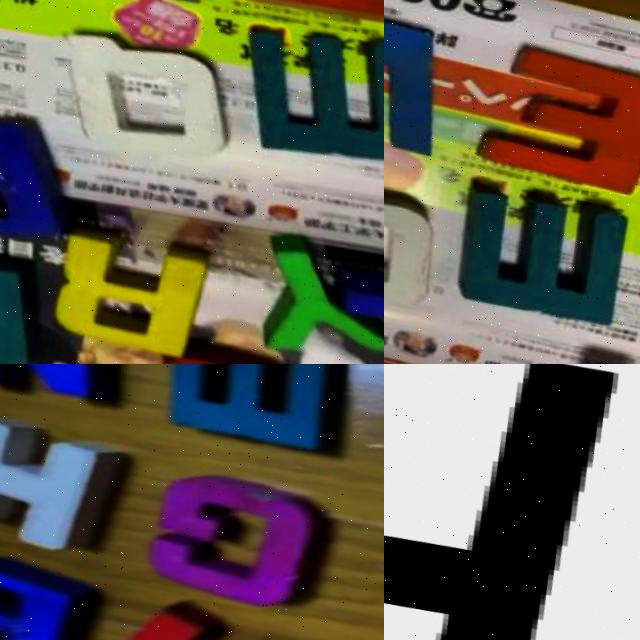A: (63, 585, 299, 640)
B: (0, 98, 74, 251), (0, 542, 85, 640)
D: (0, 238, 45, 364)
E: (458, 29, 640, 203), (229, 0, 384, 44)
G: (123, 464, 325, 623)
H: (0, 396, 124, 563)
M: (428, 180, 622, 337), (226, 14, 384, 178), (143, 364, 345, 463)
O: (122, 337, 289, 364)
P: (384, 364, 615, 640)
Q: (30, 13, 238, 173), (384, 159, 439, 313)
R: (38, 224, 204, 363)
T: (315, 204, 384, 340)
V: (384, 0, 458, 163)
Y: (230, 230, 384, 364)
